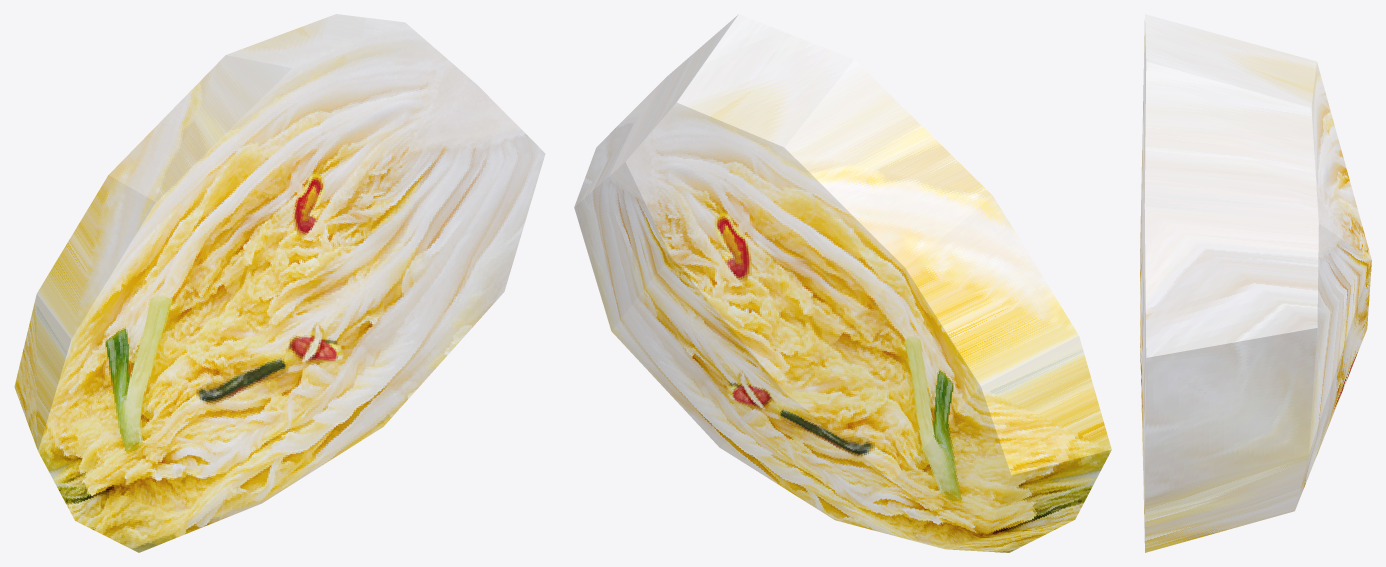
File: baekkimchi.glb
3 views of the same model, side by side, from view 1: azimuth 30°, elevation 25°; view 2: azimuth 150°, elevation 25°; view 3: azimuth 270°, elevation 25° (orthographic). The views are drawn at different scales.
Parts seen in each view (by area): view 1: whitekimchi; view 2: whitekimchi; view 3: whitekimchi.
Part boxes in pixels (box(x1,y1,x2,y2)): whitekimchi: box(14, 14, 545, 552); whitekimchi: box(574, 14, 1111, 552); whitekimchi: box(1140, 14, 1371, 552).
Size of the model in its own units: 0.4004 by 0.3511 by 0.1251.
Materials: 1 (1 with a texture image).
